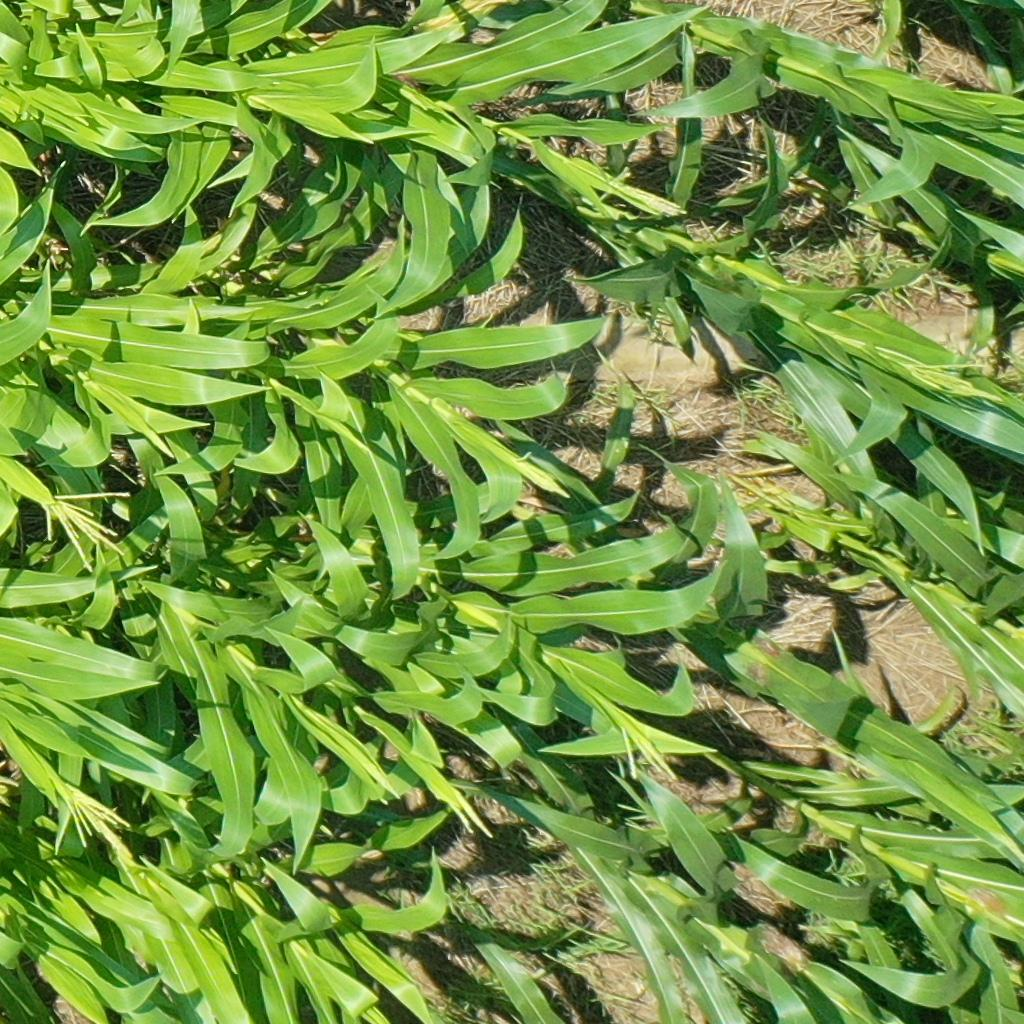Tassel: (38, 487, 137, 573), (904, 357, 1005, 409), (61, 782, 132, 855), (605, 163, 690, 217), (617, 724, 683, 783), (444, 783, 495, 844), (516, 452, 577, 501), (367, 761, 401, 797)
